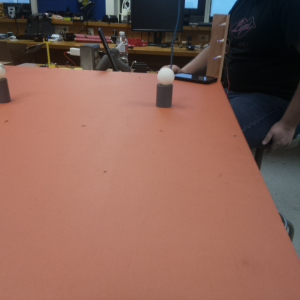corner: (212, 13, 227, 83)
obstacle: (156, 68, 174, 105)
